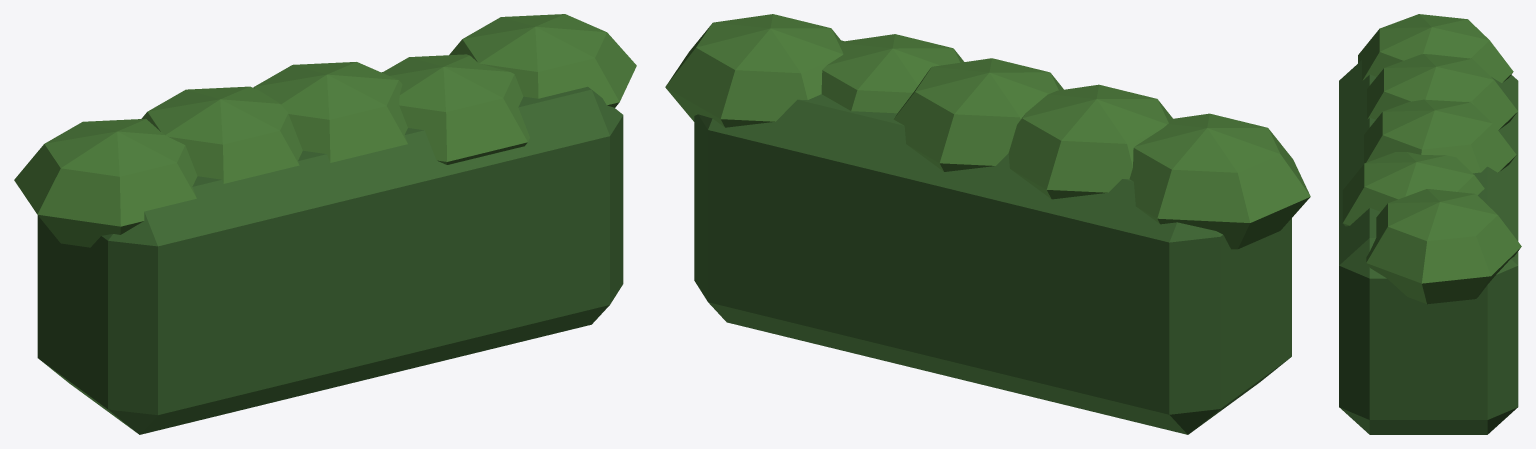
The model's file is hedge.glb.
3 views of the same model, side by side, from view 1: azimuth 30°, elevation 25°; view 2: azimuth 150°, elevation 25°; view 3: azimuth 270°, elevation 25° (orthographic). The views are drawn at different scales.
Parts seen in each view (by area): view 1: hedge; view 2: hedge; view 3: hedge.
Boxes of the visible parts, left/top/right/bottom form: hedge: left=14, top=14, right=636, bottom=434; hedge: left=665, top=14, right=1310, bottom=434; hedge: left=1339, top=14, right=1521, bottom=434.
Bounding box in the file's own units: 2.29 × 1 × 0.7143.
